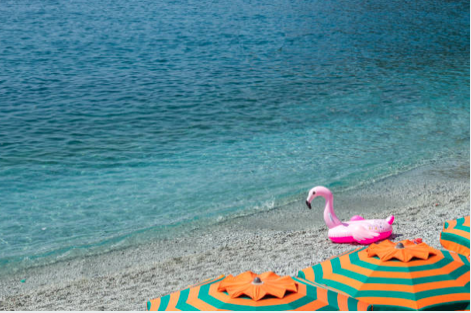Flamingo: (303, 183, 397, 246)
